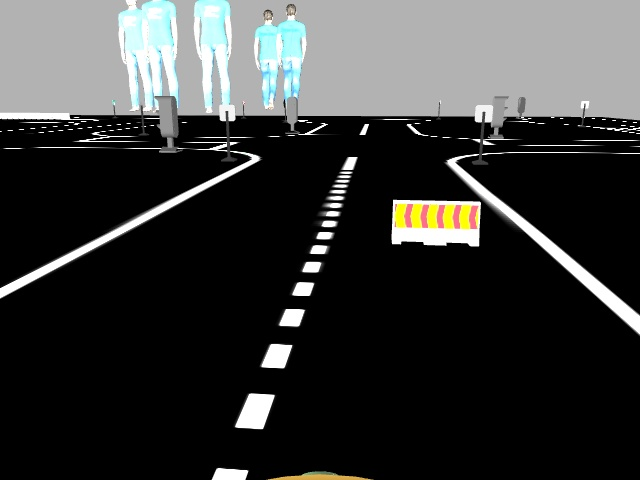ClosedRoadStand: (392, 200, 478, 243)
